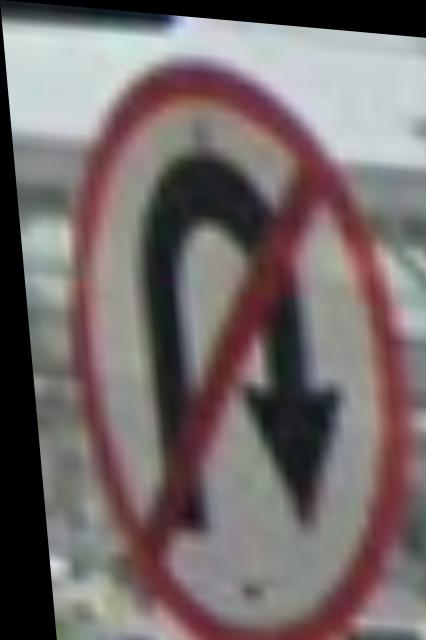not_u_turn_right: (52, 41, 417, 640)
